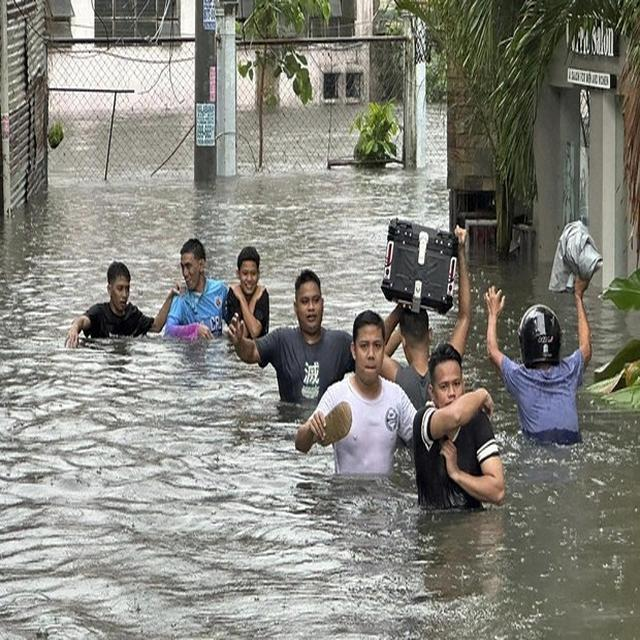Person-RiskLevel3: (486, 220, 608, 453), (290, 316, 424, 484), (374, 209, 480, 415), (410, 344, 511, 518), (233, 265, 358, 403), (58, 254, 181, 353), (155, 233, 228, 353), (211, 240, 285, 340)
